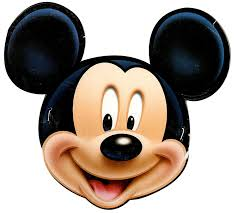mickey: (3, 2, 231, 210)
